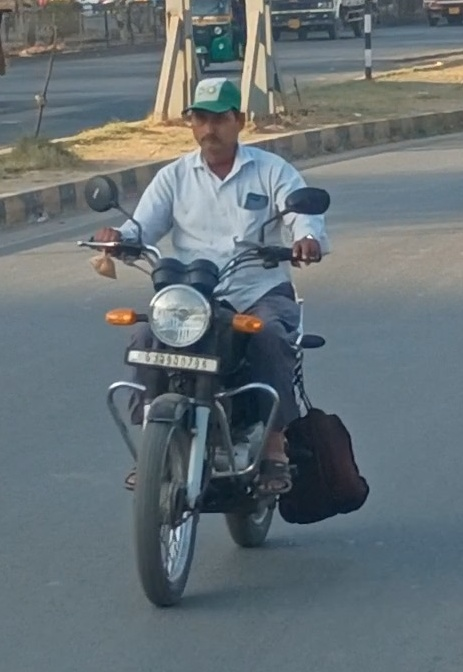BikeWithRider: (67, 74, 378, 617)
NoHelmet: (172, 73, 253, 166)
